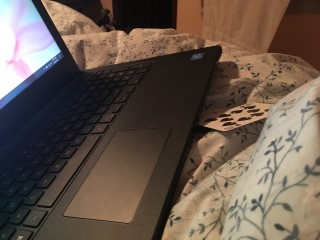TenOfSpades: (196, 102, 275, 131)
